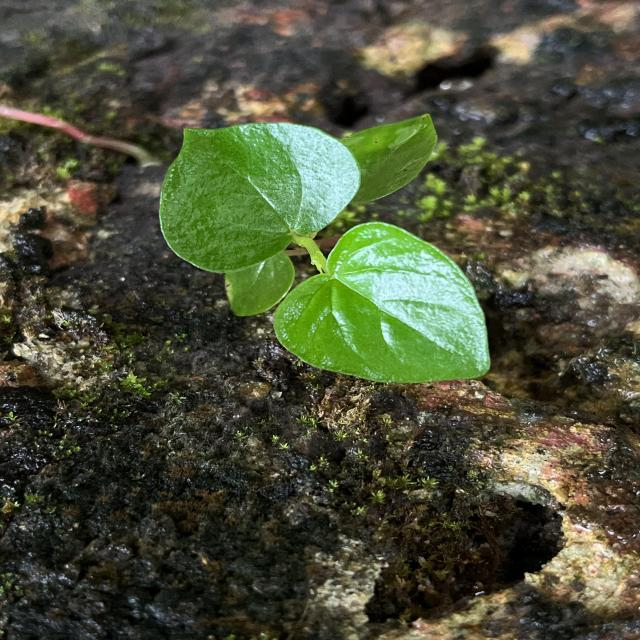Peperomia pellucida: (272, 220, 492, 384), (158, 120, 363, 275)
